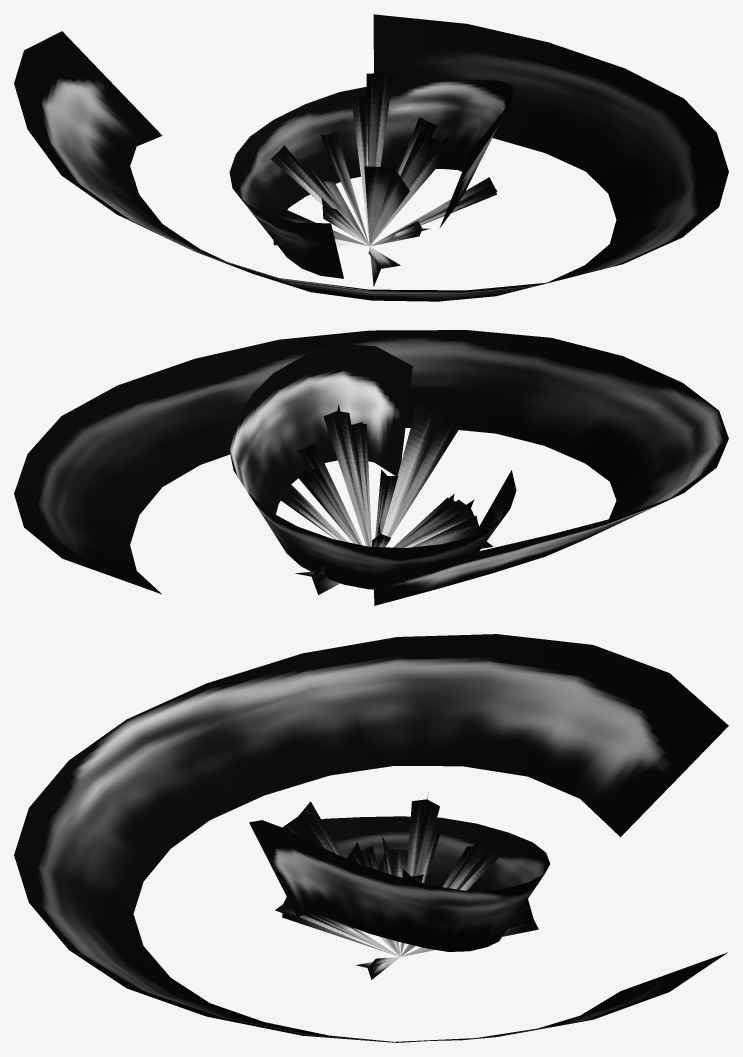
File: EffCommonMonsterball.obj
3 renders of one model, top to bottom at view 1: azimuth 30°, elevation 25°; view 2: azimuth 150°, elevation 25°; view 3: azimuth 270°, elevation 25°, orthographic. The views are drawn at different scales.
Parts seen in each view (by area): view 1: polygon1, polygon2, polygon0; view 2: polygon1, polygon2, polygon0; view 3: polygon1, polygon2, polygon0.
Part boxes in pixels (bbox=[...]): polygon1: bbox=[14, 14, 728, 301]; polygon2: bbox=[229, 79, 514, 278]; polygon0: bbox=[270, 70, 497, 286]; polygon1: bbox=[14, 330, 728, 605]; polygon2: bbox=[229, 344, 516, 589]; polygon0: bbox=[281, 404, 493, 594]; polygon1: bbox=[14, 634, 728, 1042]; polygon2: bbox=[249, 816, 550, 951]; polygon0: bbox=[275, 792, 538, 979].
Size of the model in its own units: 39.98 by 9.92 by 37.12.
3 materials, 3 textured.
